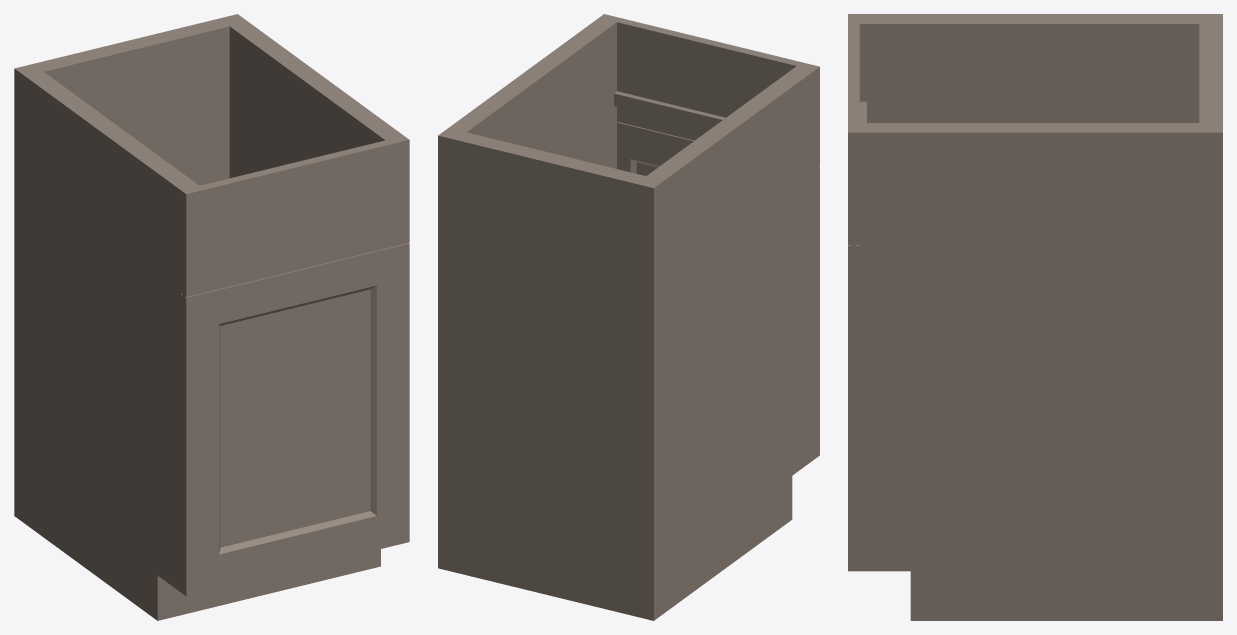
File: Base-Cabinet-Wastebasket-24-Deep_std_001_W18in_1D.glb
The picture shows the model from 3 angles, left to right: view 1: azimuth 30°, elevation 25°; view 2: azimuth 150°, elevation 25°; view 3: azimuth 270°, elevation 25°; orthographic projection. The views are drawn at different scales.
Parts seen in each view (by area): view 1: Base-Cabinet-Wastebasket-24-Deep.std.001_W18in_1D; view 2: Base-Cabinet-Wastebasket-24-Deep.std.001_W18in_1D; view 3: Base-Cabinet-Wastebasket-24-Deep.std.001_W18in_1D.
Boxes of the visible parts, x1,y1,x2,y2 form: Base-Cabinet-Wastebasket-24-Deep.std.001_W18in_1D: (14, 14, 409, 620); Base-Cabinet-Wastebasket-24-Deep.std.001_W18in_1D: (438, 14, 819, 620); Base-Cabinet-Wastebasket-24-Deep.std.001_W18in_1D: (848, 14, 1222, 620).
Size of the model in its own units: 0.4572 by 0.8763 by 0.6096.
